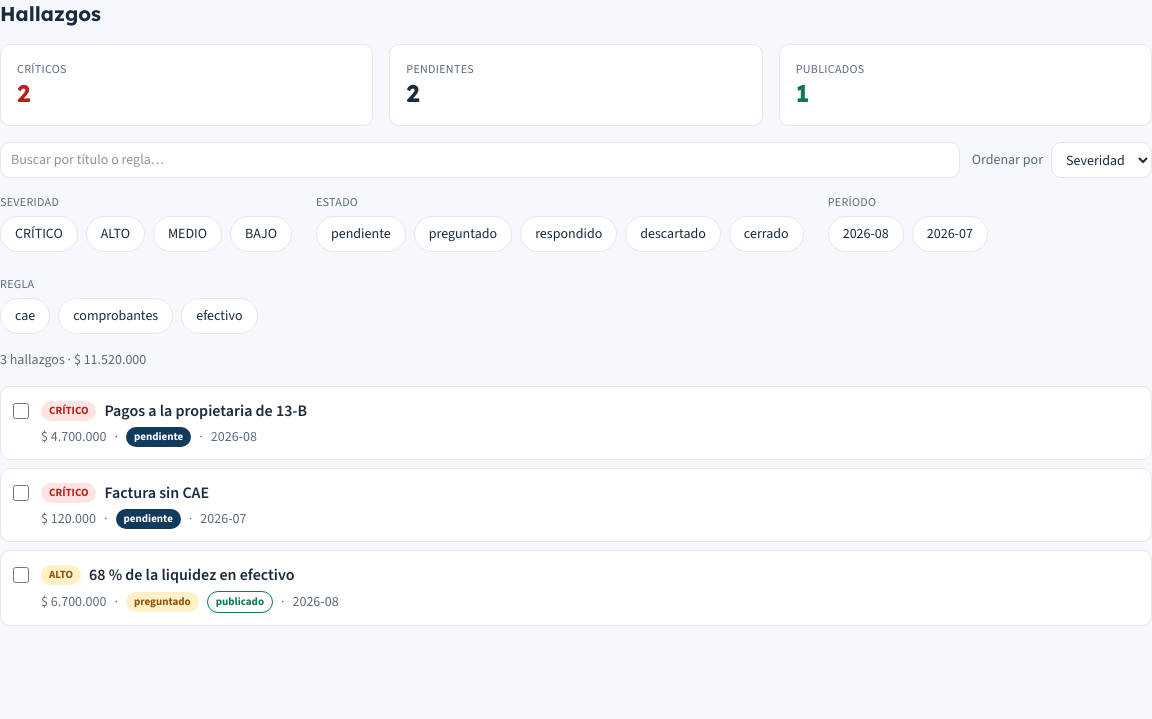
Test: si parte del lote falla, los fallidos quedan seleccionados para reintentar
Expected: the text "Pagos a la propietaria de 13-B" is shown, left=104, top=399, right=307, bottom=423
Click the checkbox named "Seleccionar Pagos a la propietaria" at (21, 411), box left=13, top=403, right=29, bottom=419
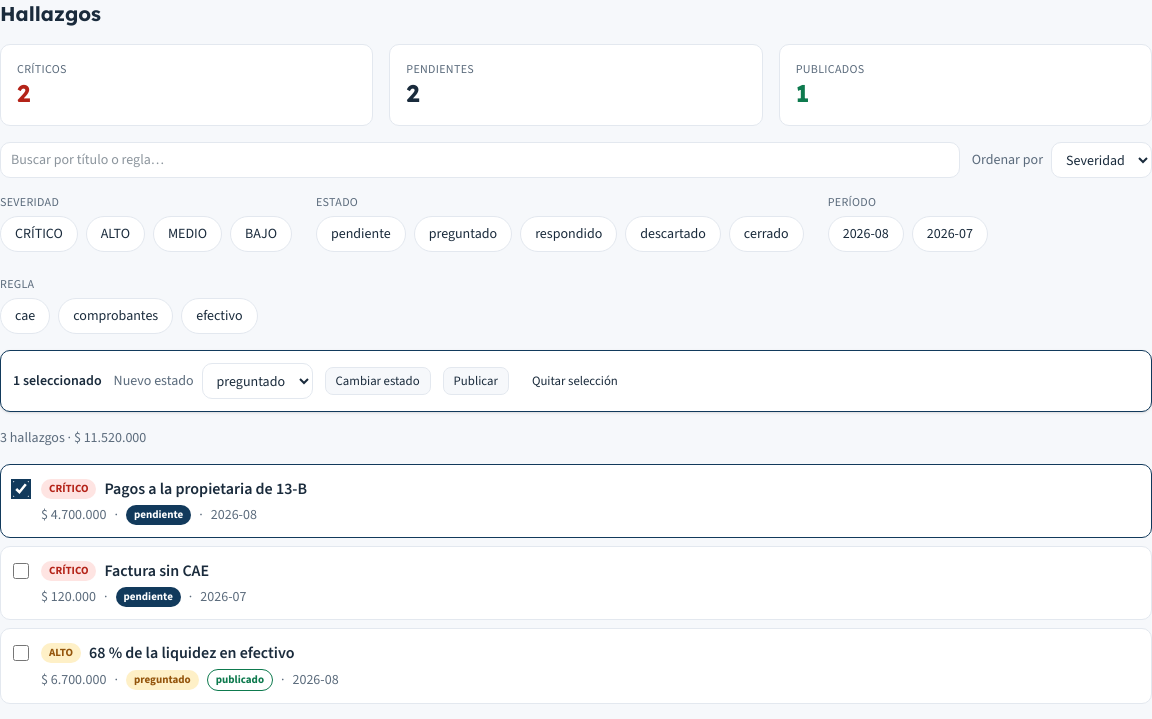
Click the checkbox named "Seleccionar Factura sin CAE" at (21, 571), box left=13, top=563, right=29, bottom=579
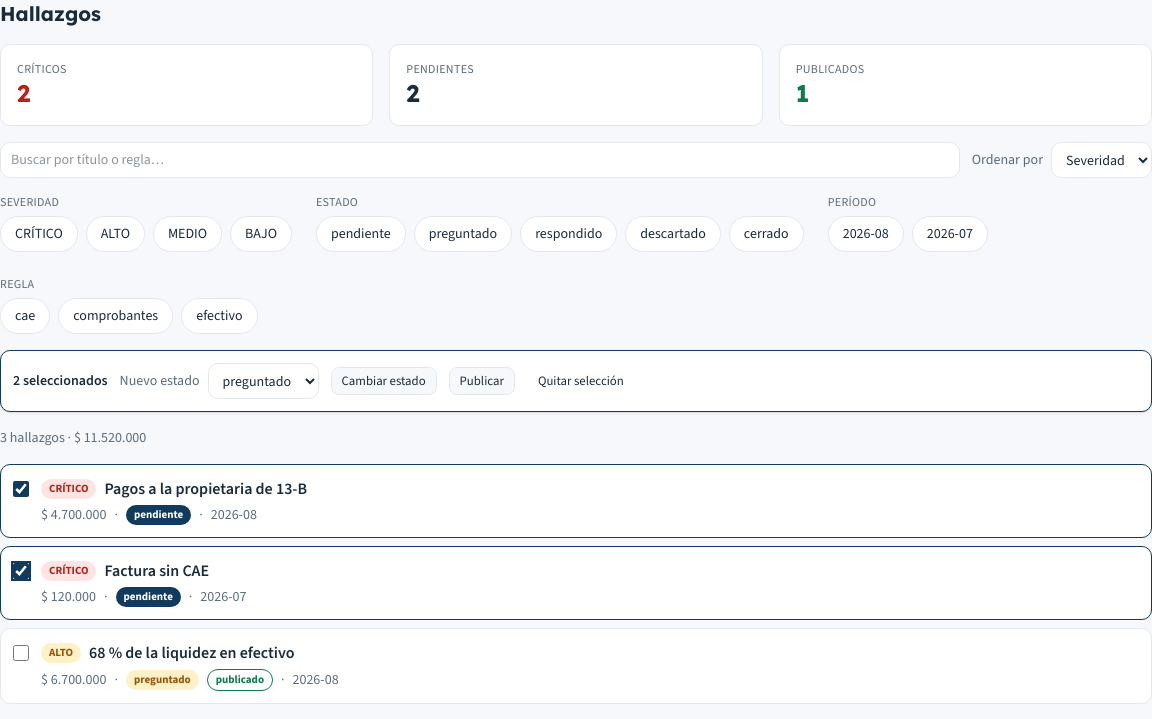
Click the button "Cambiar estado" at (384, 381), box left=330, top=367, right=436, bottom=395
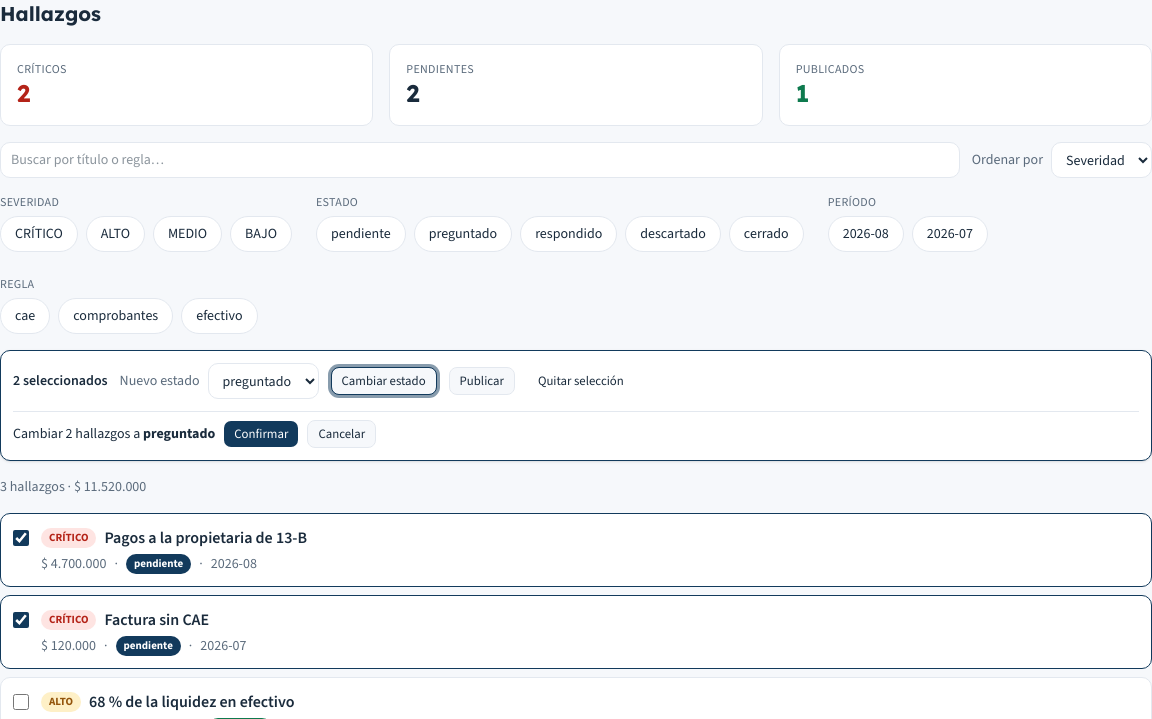
Click the button "Confirmar" at (261, 434), box left=223, top=420, right=299, bottom=448
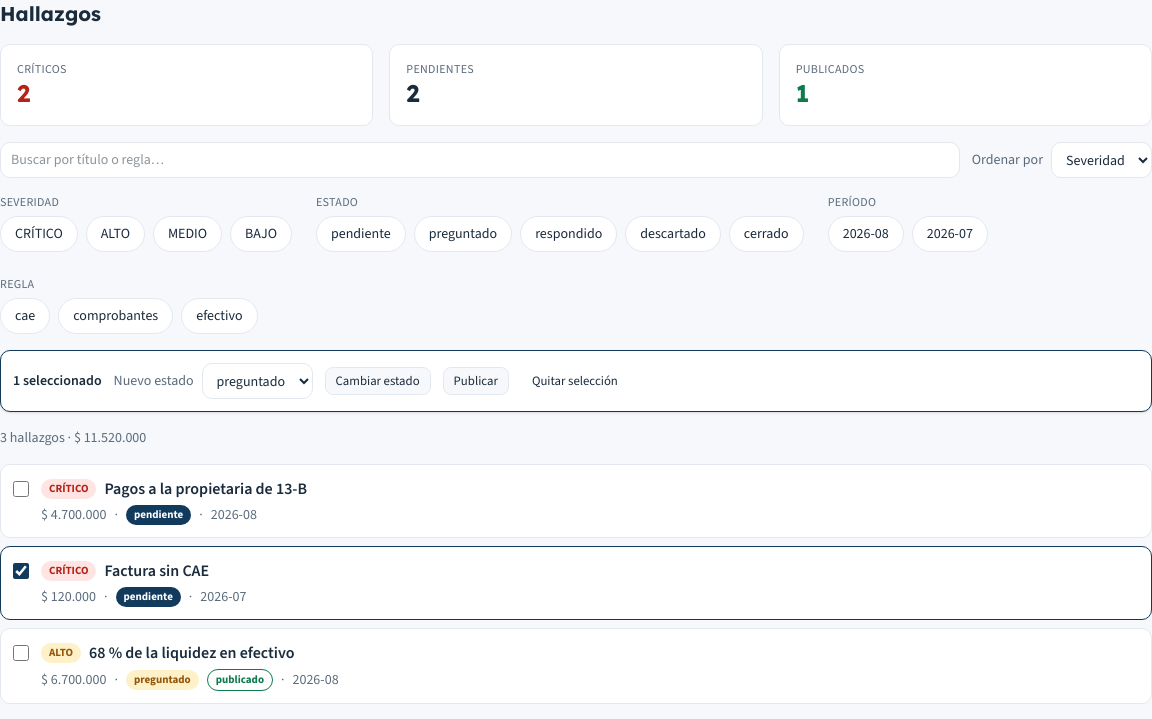
Expected: the checkbox named "Seleccionar Factura sin CAE" is checked, left=13, top=563, right=29, bottom=579
Expected: the checkbox named "Seleccionar Pagos a la propietaria" is not checked, left=13, top=481, right=29, bottom=497
Expected: the text "1 seleccionado" is shown, left=13, top=371, right=102, bottom=391
